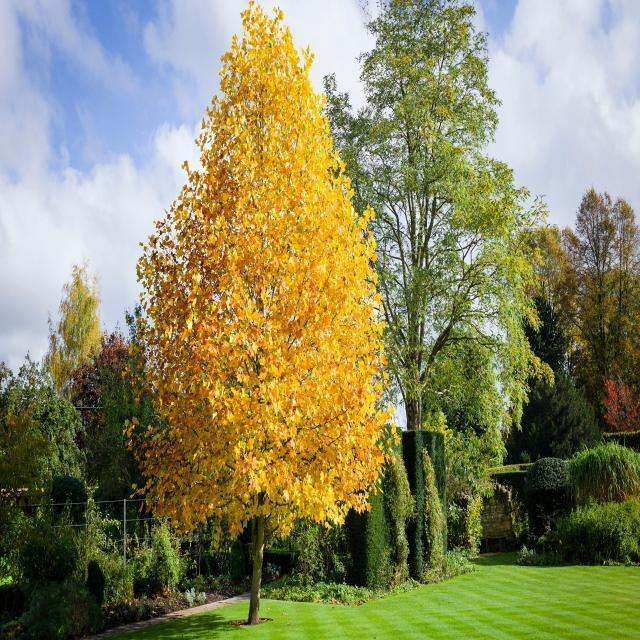tree: (122, 0, 390, 620), (373, 0, 529, 576), (571, 173, 640, 462), (511, 220, 577, 430), (0, 358, 80, 530), (48, 254, 104, 386)
